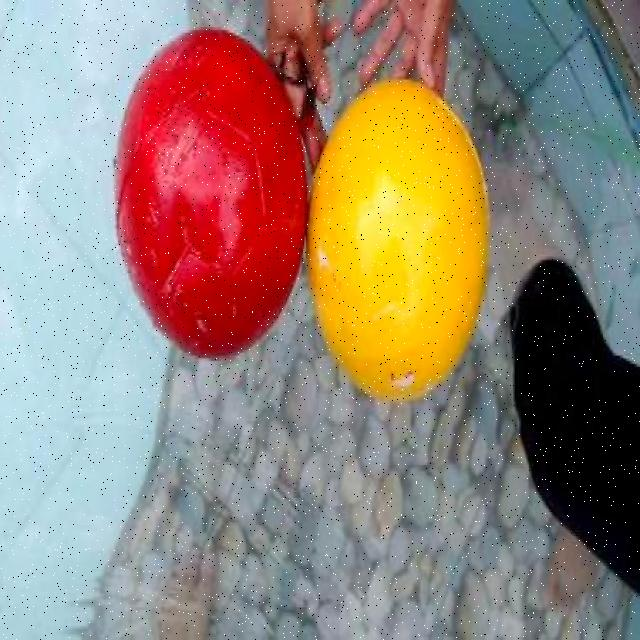buoy: (114, 27, 308, 361), (306, 78, 489, 398)
